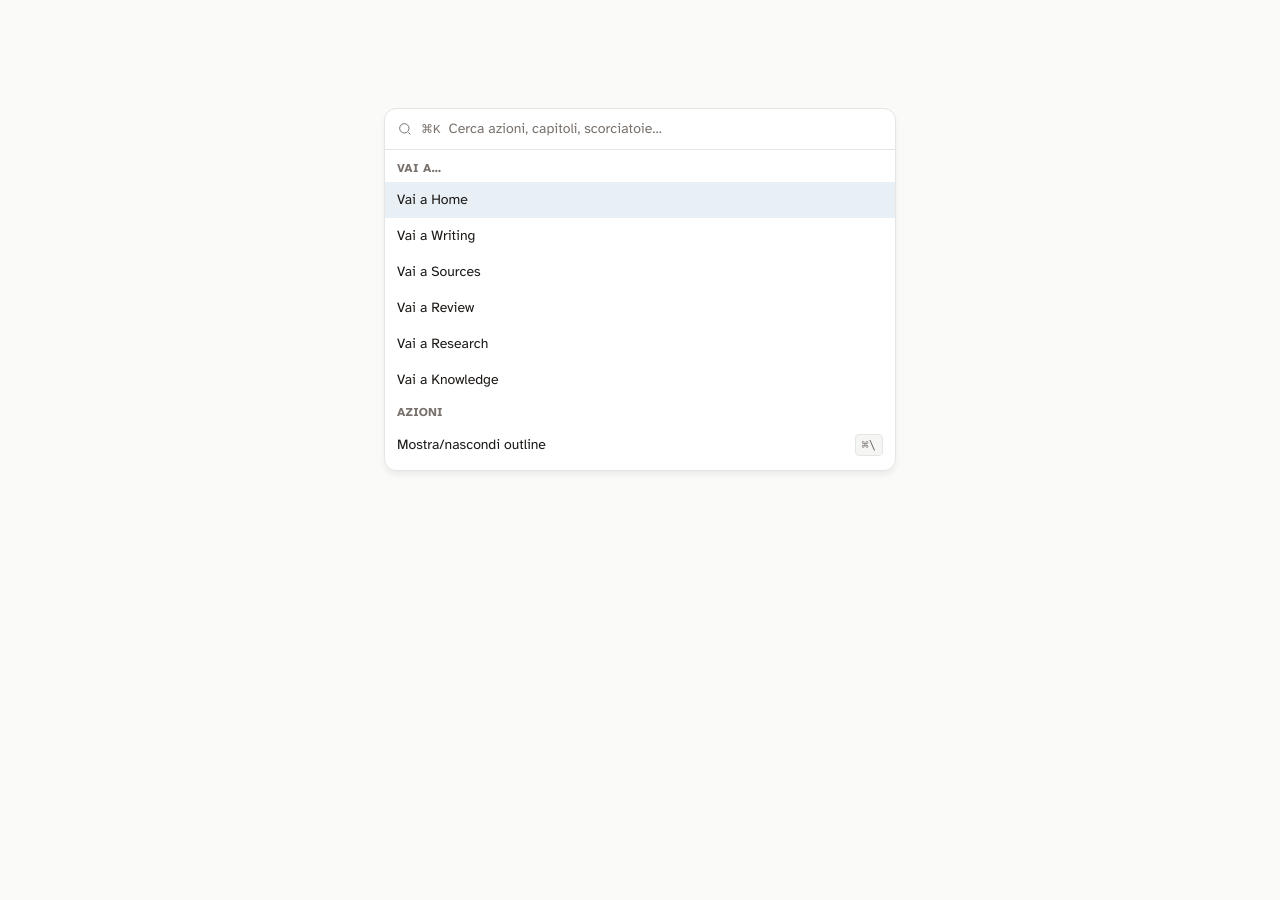
Test: CommandPalette › filters actions by search query
Type "fonti" into the search field with test id "command-palette-input".
click(666, 129); type("fonti")  # box [448,119,883,139]
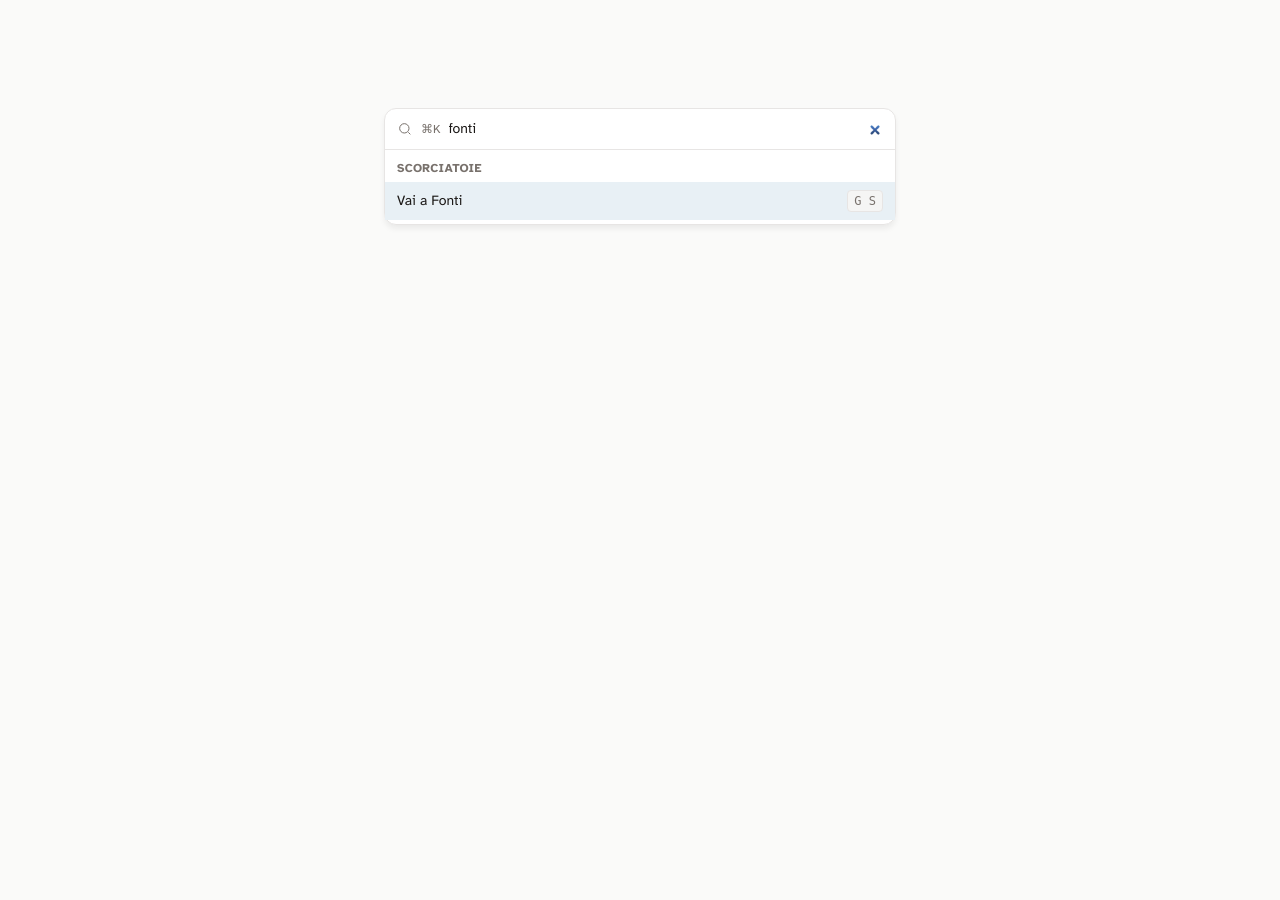
Now the option with test id "command-action-goto-sources" is shown, box [385,182,895,220]
